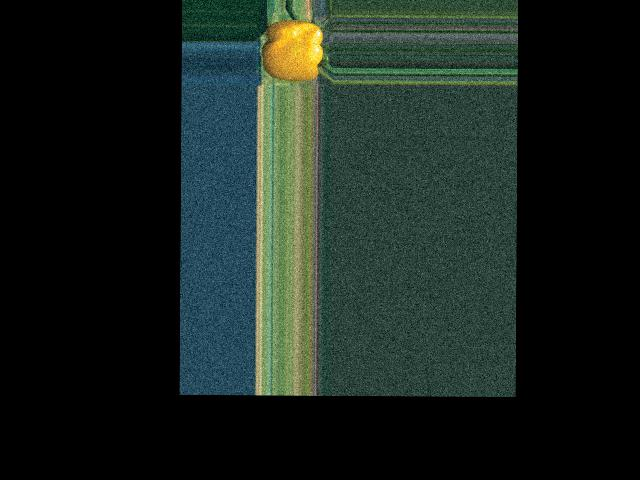bell_pepper: (261, 14, 329, 85)
